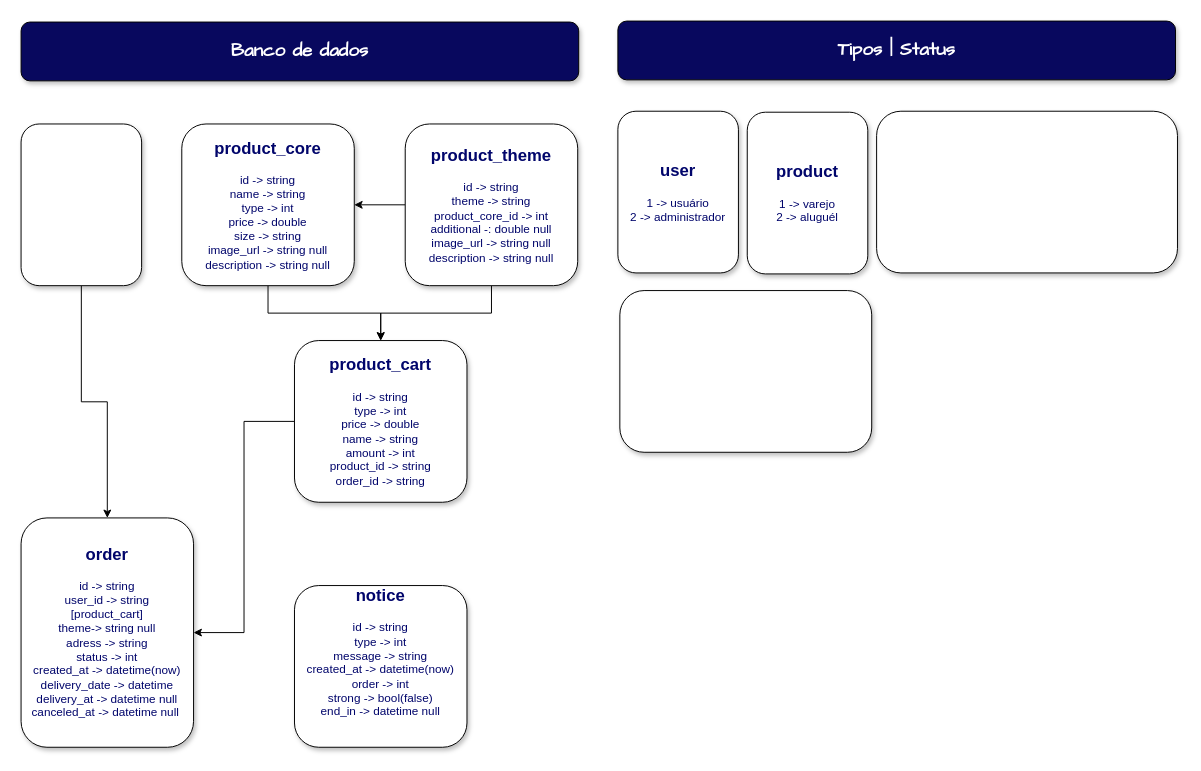
Image size: 1201x771. Some labels were removed from this diagram. Each missing label, with the centre of its shape:
"notice 1 -> aviso de encomenda" belongs at (1027,193).
"order 1 -> ABERTO 2-> EM ANDAMENTO 3 -> PRONTO PARA ENTREGA 4 -> FINALIZADO" belongs at (746,372).
"user id -> string name -> string phone -> string type -> int" belongs at (81,206).
